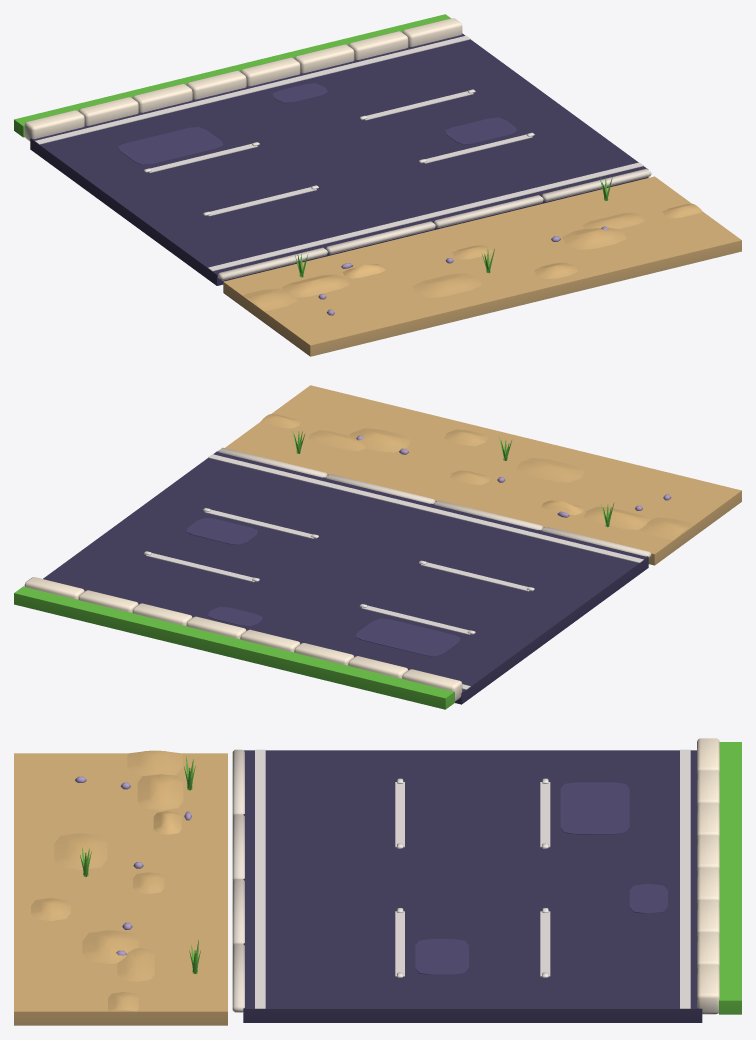
Rendered from road_tile.glb.
3 views of the same model, one above another, from view 1: azimuth 30°, elevation 25°; view 2: azimuth 150°, elevation 25°; view 3: azimuth 270°, elevation 25° (orthographic). The views are drawn at different scales.
Visible parts, largest first — view 1: road_tile; view 2: road_tile; view 3: road_tile.
Part boxes in pixels (<box>): road_tile: <box>14,14,741,356</box>; road_tile: <box>14,385,741,709</box>; road_tile: <box>14,738,741,1025</box>.
Bounding box in the file's own units: 8 × 0.6531 × 9.52.
